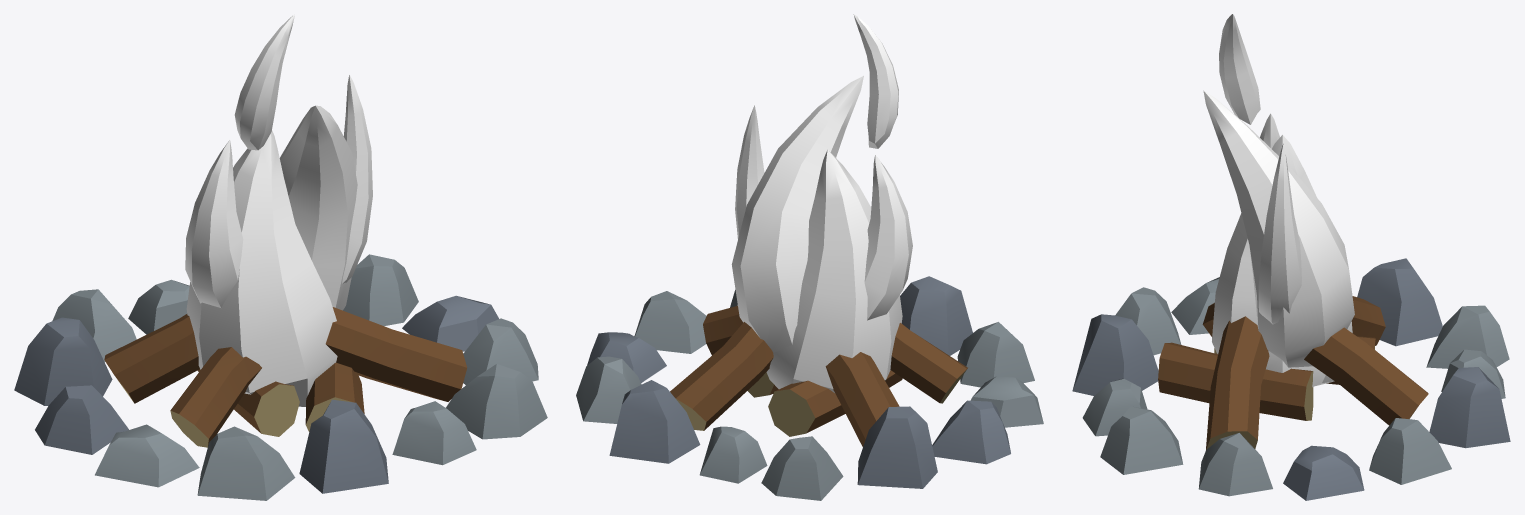
Rendered from Bonfire_Lit.glb.
3 views of the same model, side by side, from view 1: azimuth 30°, elevation 25°; view 2: azimuth 150°, elevation 25°; view 3: azimuth 270°, elevation 25° (orthographic). The views are drawn at different scales.
Visible parts, largest first — view 1: Bonfire_Lit; view 2: Bonfire_Lit; view 3: Bonfire_Lit.
Boxes of the visible parts, box(x1,y1,x2,y2) form: Bonfire_Lit: box(14, 14, 547, 500); Bonfire_Lit: box(576, 14, 1043, 500); Bonfire_Lit: box(1072, 14, 1510, 500).
Bounding box in the file's own units: 0.4066 × 0.3529 × 0.3624.
